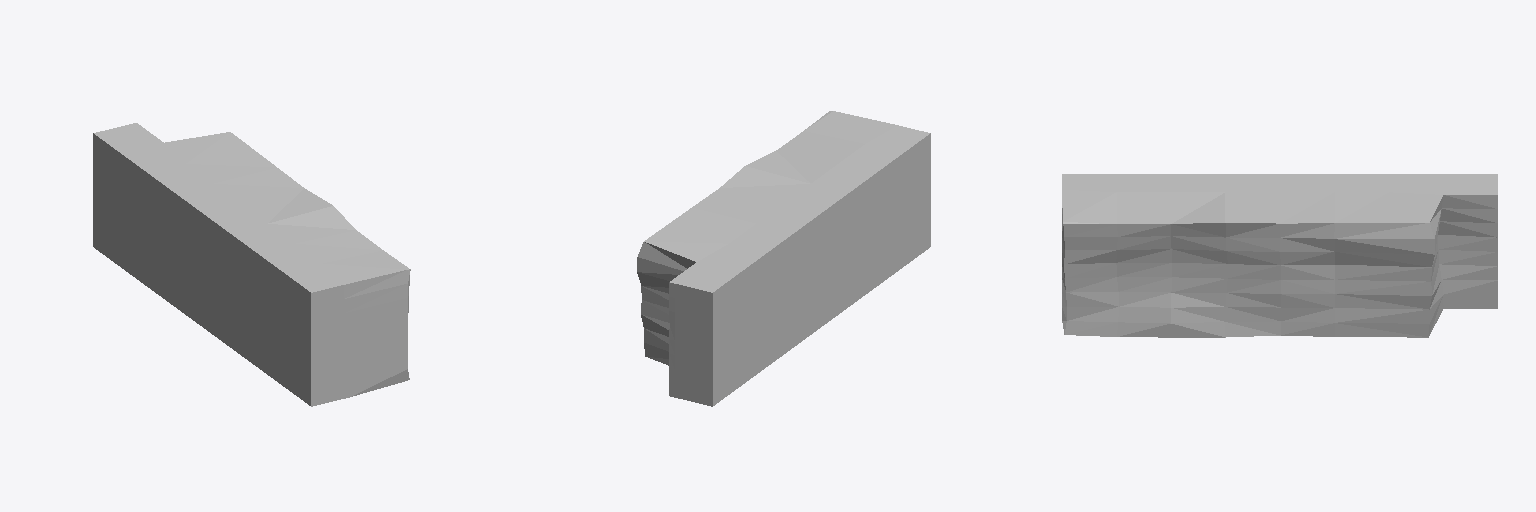
The model's file is rock3.obj.
The picture shows the model from 3 angles: view 1: azimuth 30°, elevation 25°; view 2: azimuth 150°, elevation 25°; view 3: azimuth 270°, elevation 25°; orthographic projection.
Parts seen in each view (by area): view 1: 立方体.107; view 2: 立方体.107; view 3: 立方体.107.
Part boxes in pixels (left/top/right/bottom): 立方体.107: left=93, top=123, right=410, bottom=406; 立方体.107: left=637, top=111, right=930, bottom=406; 立方体.107: left=1062, top=174, right=1497, bottom=337.
Size of the model in its own units: 171 by 176 by 600.